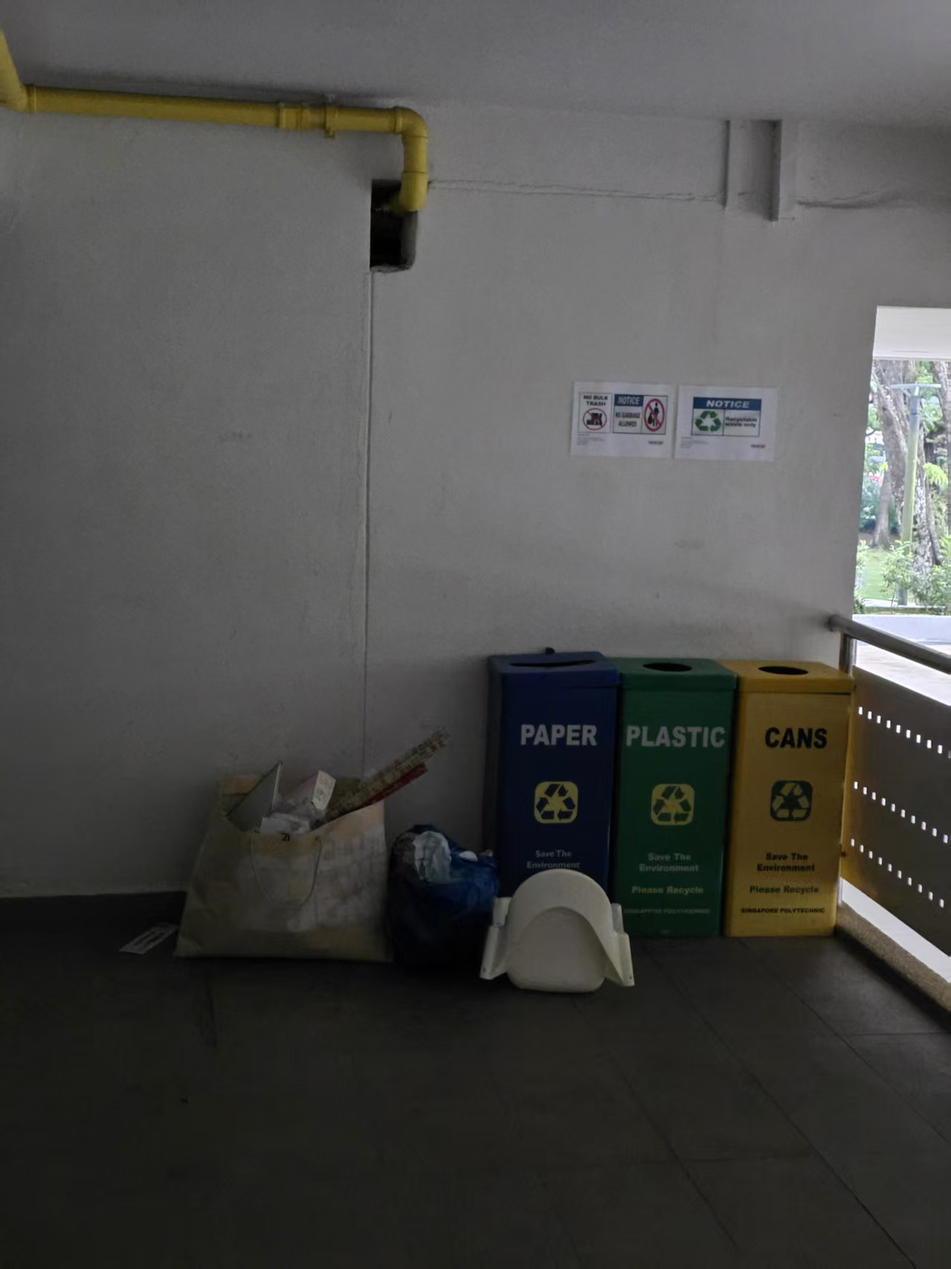bin_empty: (609, 658, 736, 937), (725, 662, 852, 937), (483, 649, 619, 896)
bulk_waste: (176, 729, 446, 961), (480, 868, 634, 992)
normal_waste: (387, 826, 497, 969)
